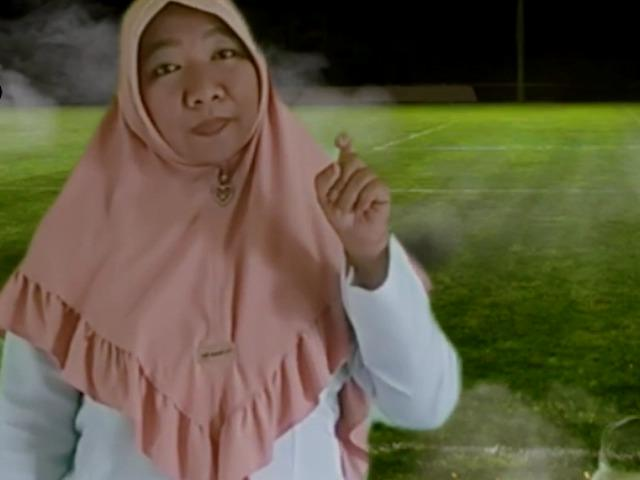X: (308, 126, 394, 258)
